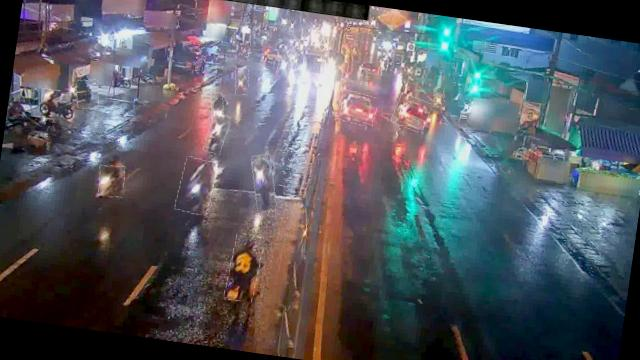Bike: (224, 232, 264, 304), (175, 156, 217, 216), (246, 152, 280, 212), (38, 88, 78, 122), (203, 112, 230, 154), (96, 164, 125, 198), (74, 78, 101, 110), (208, 92, 226, 122), (232, 67, 250, 95), (276, 54, 290, 78), (432, 87, 446, 108)
Car: (391, 92, 432, 132), (336, 90, 378, 127)
